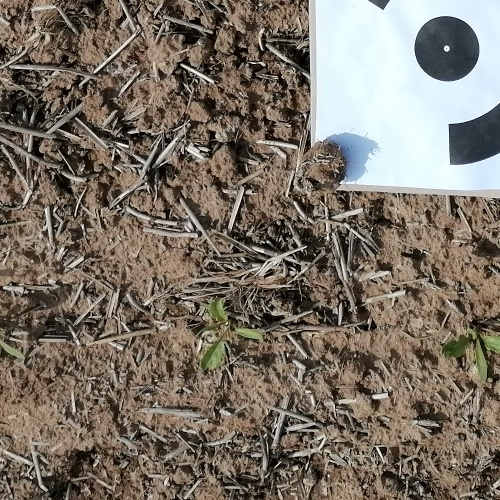beet: (201, 297, 262, 371), (441, 328, 500, 384), (0, 339, 26, 360)
